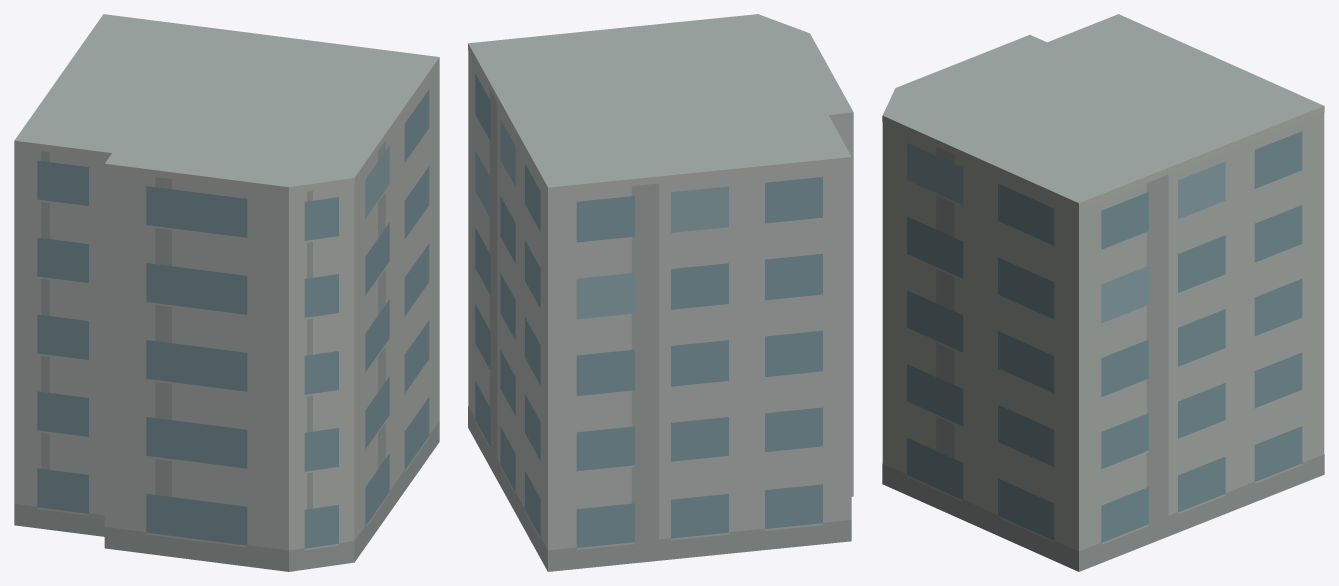
Rendered from survey-upis-32909479.glb.
3 views of the same model, side by side, from view 1: azimuth 30°, elevation 25°; view 2: azimuth 150°, elevation 25°; view 3: azimuth 270°, elevation 25° (orthographic). The views are drawn at different scales.
Parts seen in each view (by area): view 1: survey-upis-32909479.tmp; view 2: survey-upis-32909479.tmp; view 3: survey-upis-32909479.tmp.
Part boxes in pixels (bbox=[...]): survey-upis-32909479.tmp: bbox=[14, 14, 439, 571]; survey-upis-32909479.tmp: bbox=[468, 14, 853, 571]; survey-upis-32909479.tmp: bbox=[882, 14, 1324, 571].
Size of the model in its own units: 14.76 by 13.4 by 14.57.
